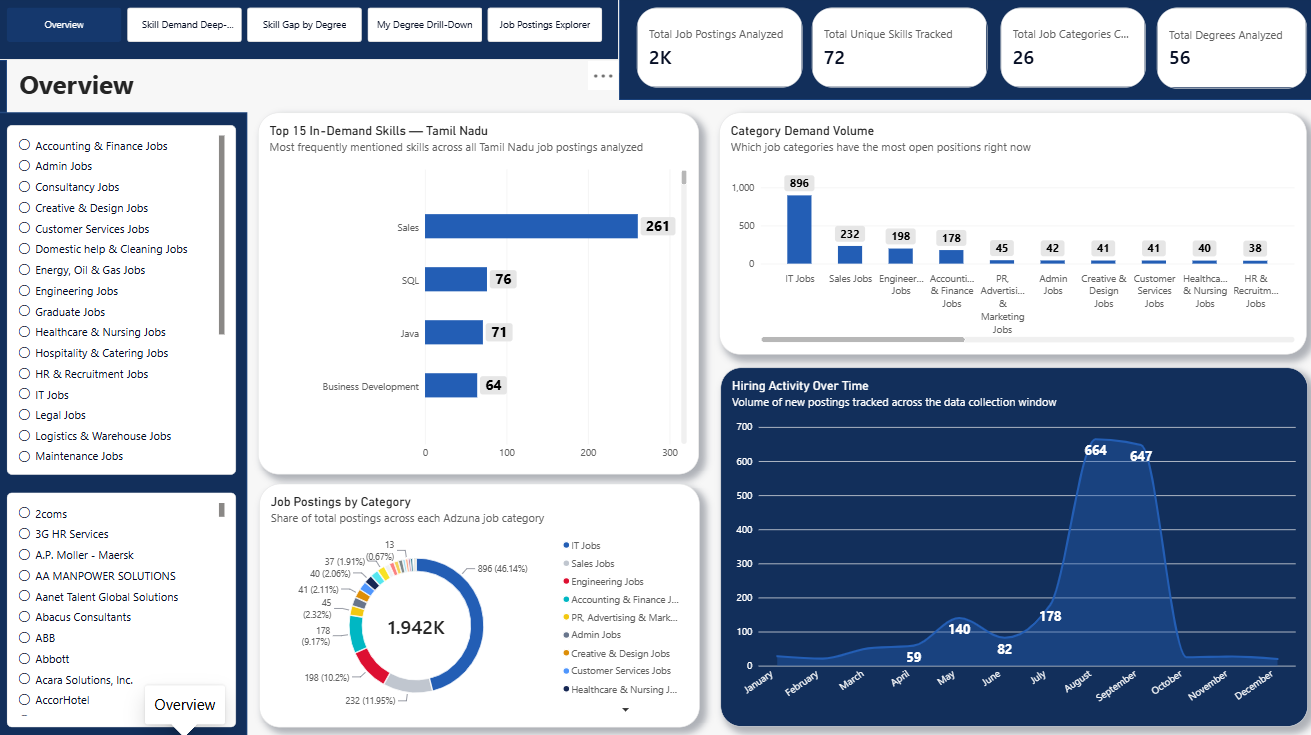

This screenshot's page, from the dashboard's own definition file:
{"tool":"powerbi","page":{"name":"Overview","canvas":[1920,1080],"ordinal":0},"visuals":[{"type":"shape","box":[906,0,1014,152],"z":1500},{"type":"shape","box":[0,0,906,94],"z":2000},{"type":"shape","box":[0,170,368,910],"z":3000},{"type":"cardVisual","fields":{"Data":["_Measure.Total Job Postings Analyzed"]},"box":[932,18,240,116],"z":4000},{"type":"cardVisual","fields":{"Data":["_Measure.Total Job Categories Covered"]},"box":[1458,18,210,116],"z":5000},{"type":"cardVisual","fields":{"Data":["_Measure.Total Degrees Analyzed"]},"box":[1685,17.5,217.5,117.5],"z":6000},{"type":"cardVisual","fields":{"Data":["_Measure.Total Unique Skills Tracked"]},"box":[1186,18,254,116],"z":7000},{"type":"clusteredBarChart","title":"Top 15 In-Demand Skills — Tamil Nadu","fields":{"Category":["skill_demand_summary.skill"],"Y":["Sum(skill_demand_summary.posting_count)"]},"box":[384,170,638,524],"z":8000},{"type":"donutChart","title":"\tJob Postings by Category","fields":{"Category":["job_postings_detail.category"],"Y":["CountNonNull(job_postings_detail.title)"]},"box":[385,707.5,637.5,352.5],"z":9000},{"type":"clusteredColumnChart","title":"Category Demand Volume","fields":{"Y":["CountNonNull(job_postings_detail.title)"],"Category":["job_postings_detail.category"]},"box":[1052,170,850,350],"z":10000},{"type":"stackedAreaChart","title":"Hiring Activity Over Time","fields":{"Category":["job_postings_detail.created.Variation.Date Hierarchy.Month","job_postings_detail.created.Variation.Date Hierarchy.Day"],"Y":["CountNonNull(job_postings_detail.title)"]},"box":[1052.5,540,850,520],"z":11000},{"type":"pageNavigator","box":[20,18,866,50],"z":12000},{"type":"listSlicer","fields":{"Values":["job_postings_detail.category"]},"box":[20,188,332,506],"z":13000},{"type":"listSlicer","fields":{"Values":["job_postings_detail.company"]},"box":[20,720,332,340],"z":14000},{"type":"shape","box":[0,94,20,76],"z":15000}]}

Visuals, with their boxes in screenshot pixels (x1, y1, x2, y2), scaled from the page's 1920x1080 canvas onto the 1311x735 screenshot:
shape: box(619, 0, 1310, 103)
shape: box(0, 0, 619, 64)
shape: box(0, 116, 251, 734)
cardVisual - _Measure.Total Job Postings Analyzed: box(636, 12, 800, 91)
cardVisual - _Measure.Total Job Categories Covered: box(996, 12, 1139, 91)
cardVisual - _Measure.Total Degrees Analyzed: box(1151, 12, 1299, 92)
cardVisual - _Measure.Total Unique Skills Tracked: box(810, 12, 983, 91)
"Top 15 In-Demand Skills — Tamil Nadu" clusteredBarChart: box(262, 116, 698, 472)
"	Job Postings by Category" donutChart: box(263, 481, 698, 721)
"Category Demand Volume" clusteredColumnChart: box(718, 116, 1299, 354)
"Hiring Activity Over Time" stackedAreaChart: box(719, 368, 1299, 721)
pageNavigator: box(14, 12, 605, 46)
listSlicer - job_postings_detail.category: box(14, 128, 240, 472)
listSlicer - job_postings_detail.company: box(14, 490, 240, 721)
shape: box(0, 64, 14, 116)
